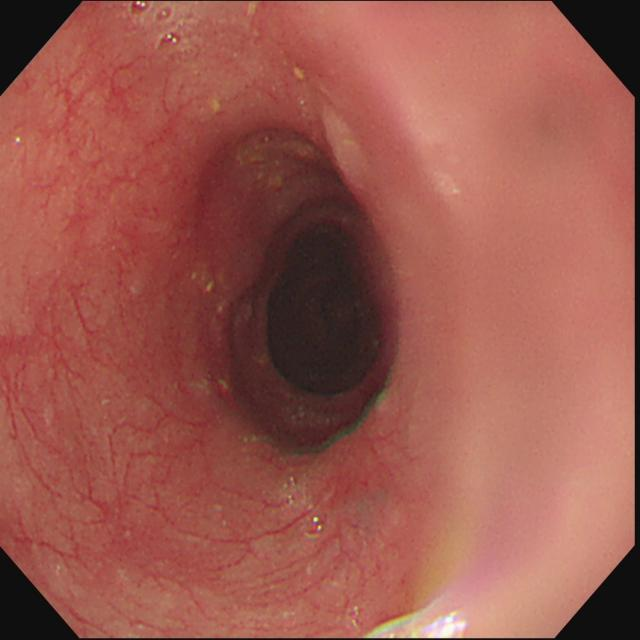E: (254, 210, 395, 405)
T: (125, 2, 199, 63), (277, 473, 329, 541)
U: (419, 610, 468, 640)
